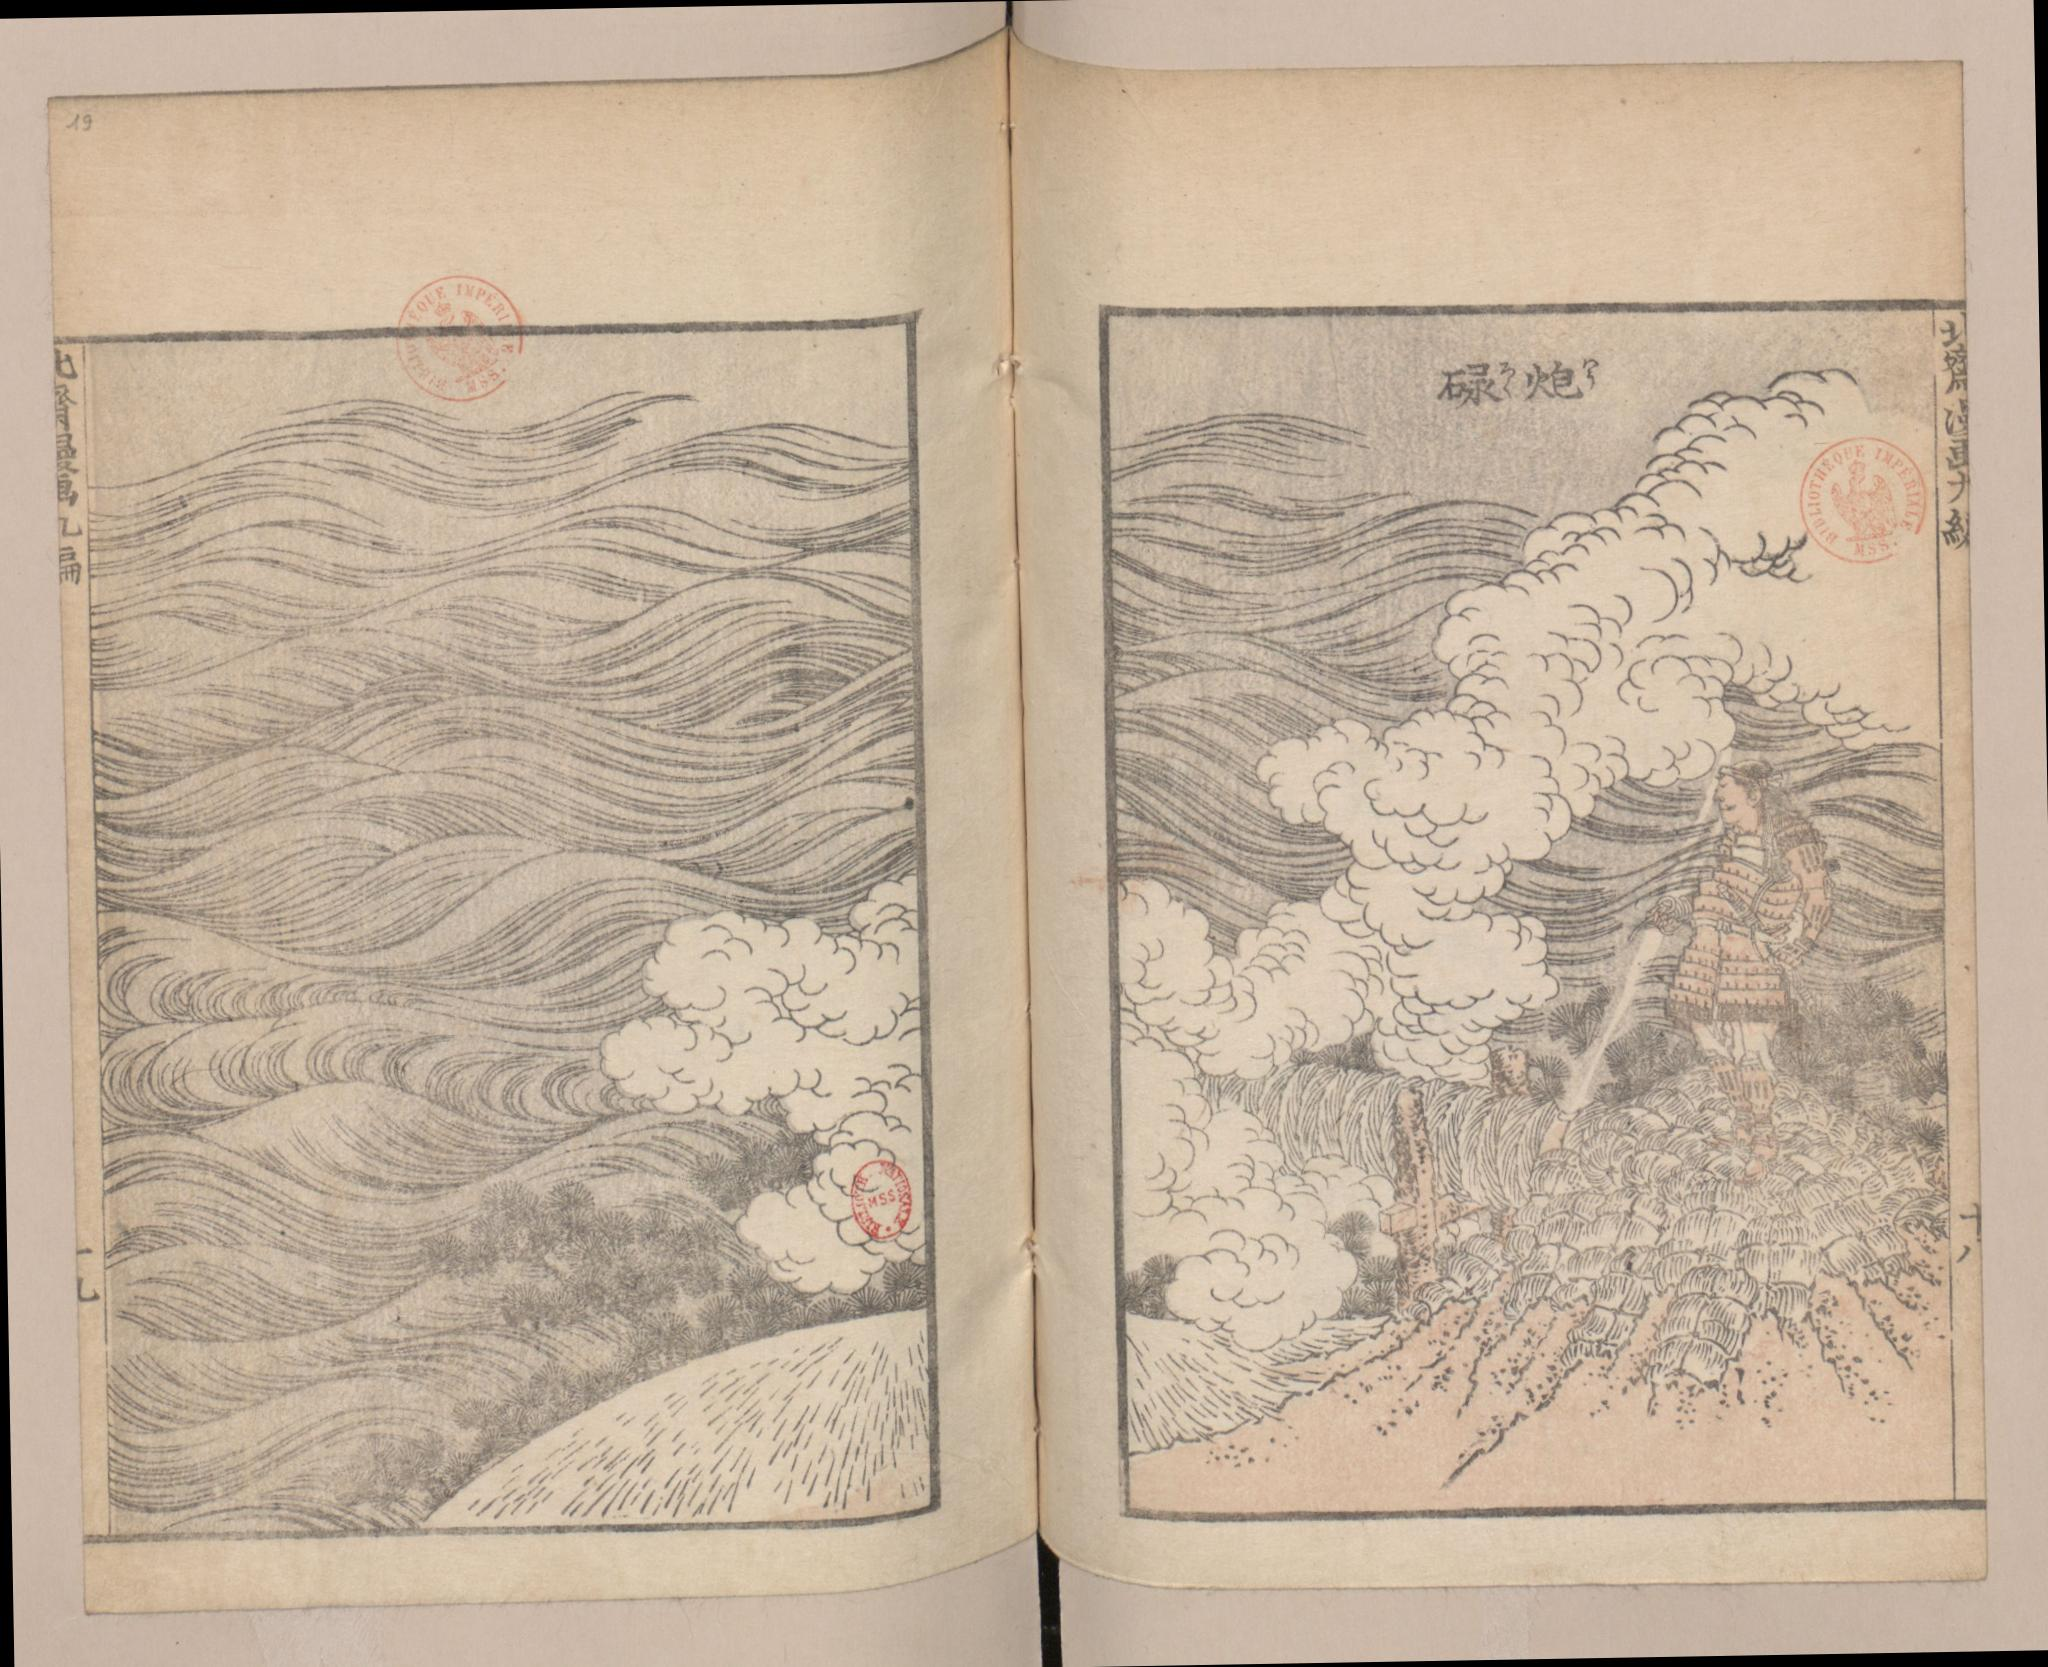MainZone-Character: (1424, 354, 1519, 415), (1521, 357, 1602, 408)
MainZone-Ruby: (1495, 361, 1517, 403), (1580, 357, 1604, 393)
